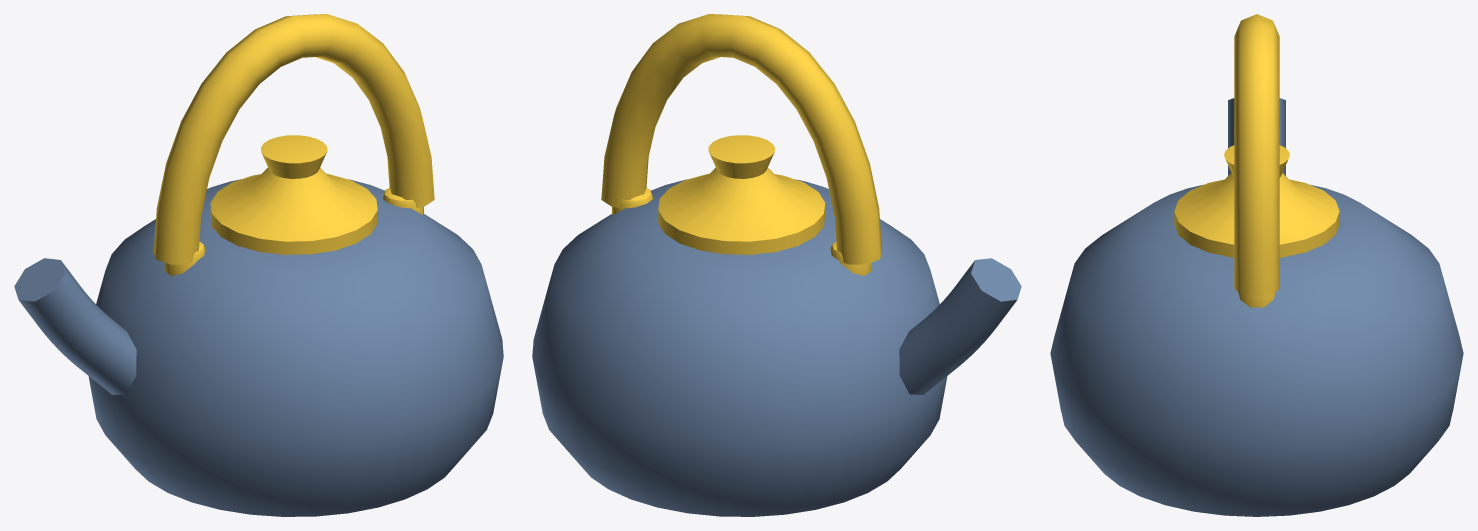
Rendered from chaleira_azul.glb.
The picture shows the model from 3 angles, left to right: view 1: azimuth 30°, elevation 25°; view 2: azimuth 150°, elevation 25°; view 3: azimuth 270°, elevation 25°; orthographic projection.
Parts seen in each view (by area): view 1: chaleira_azul; view 2: chaleira_azul; view 3: chaleira_azul.
Boxes of the visible parts, x1,y1,x2,y2 form: chaleira_azul: [14, 14, 503, 516]; chaleira_azul: [532, 14, 1021, 516]; chaleira_azul: [1050, 14, 1463, 516].
Size of the model in its own units: 0.2516 by 0.226 by 0.2.
Materials: 1 (1 with a texture image).
